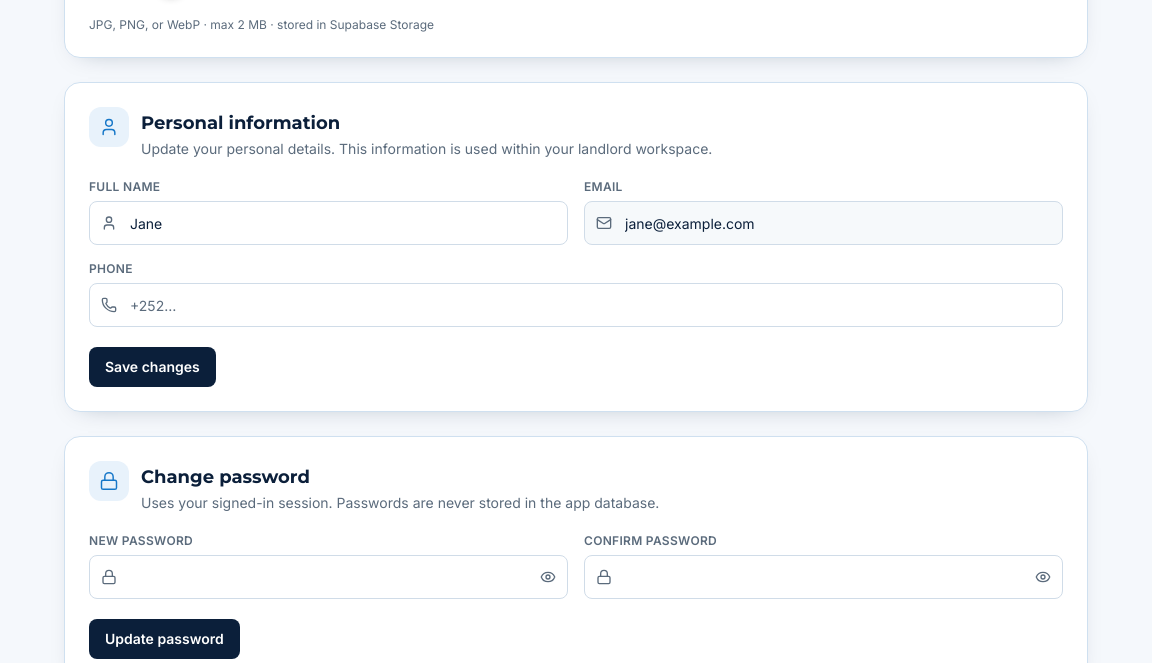
Test: AccountPage change password › shows success after password update
(page scrolled)
In the password field labelled "New password": {"x": 328, "y": 577} [89, 555, 568, 599], type "password1"
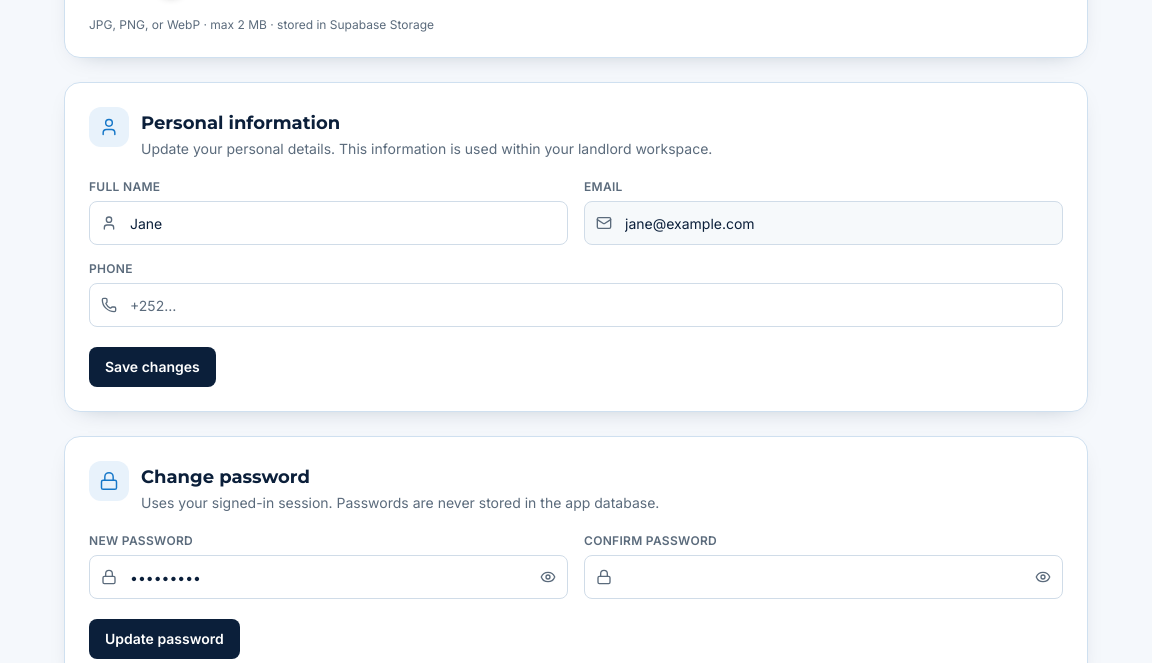
In the password field labelled "Confirm password": {"x": 824, "y": 577} [584, 555, 1063, 599], type "password1"
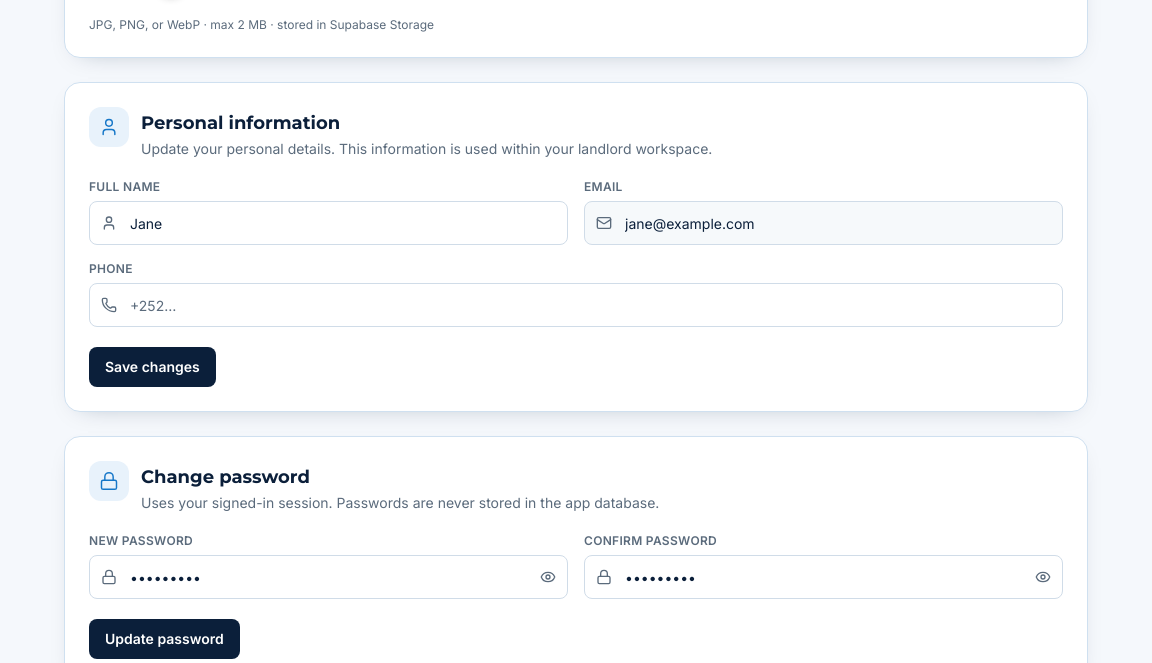
Click the button "Update password": {"x": 164, "y": 639} [89, 619, 240, 659]
(page scrolled)
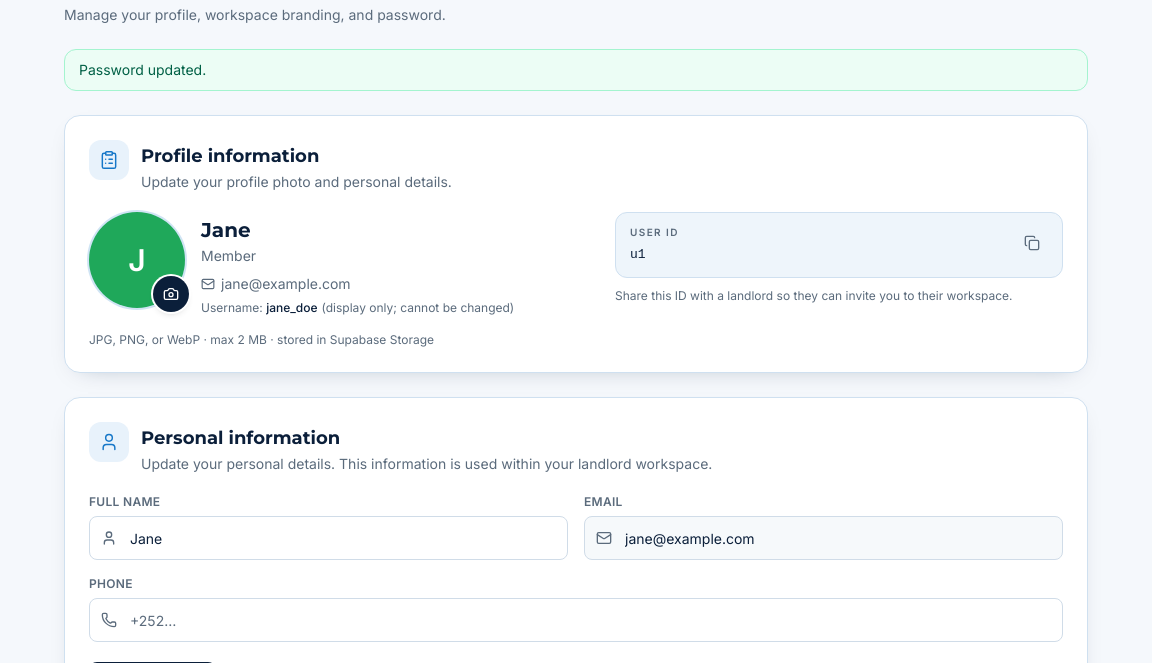
Expected: the text "Password updated." is shown, [64, 49, 1088, 91]
